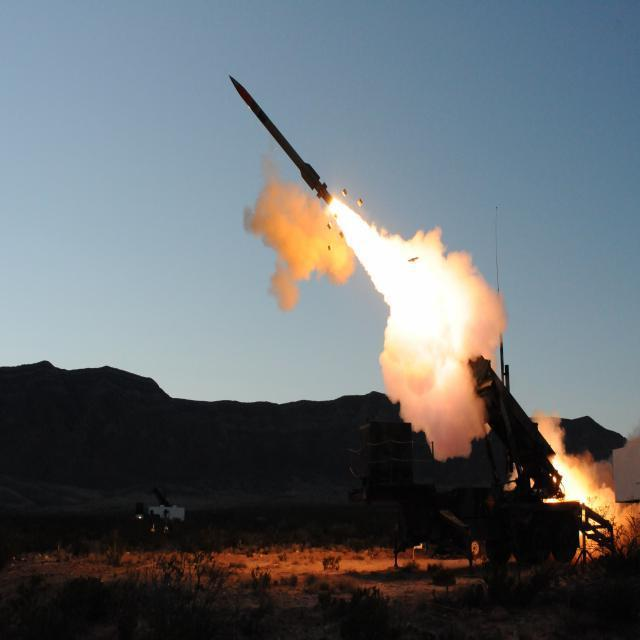missile: (222, 56, 333, 216)
